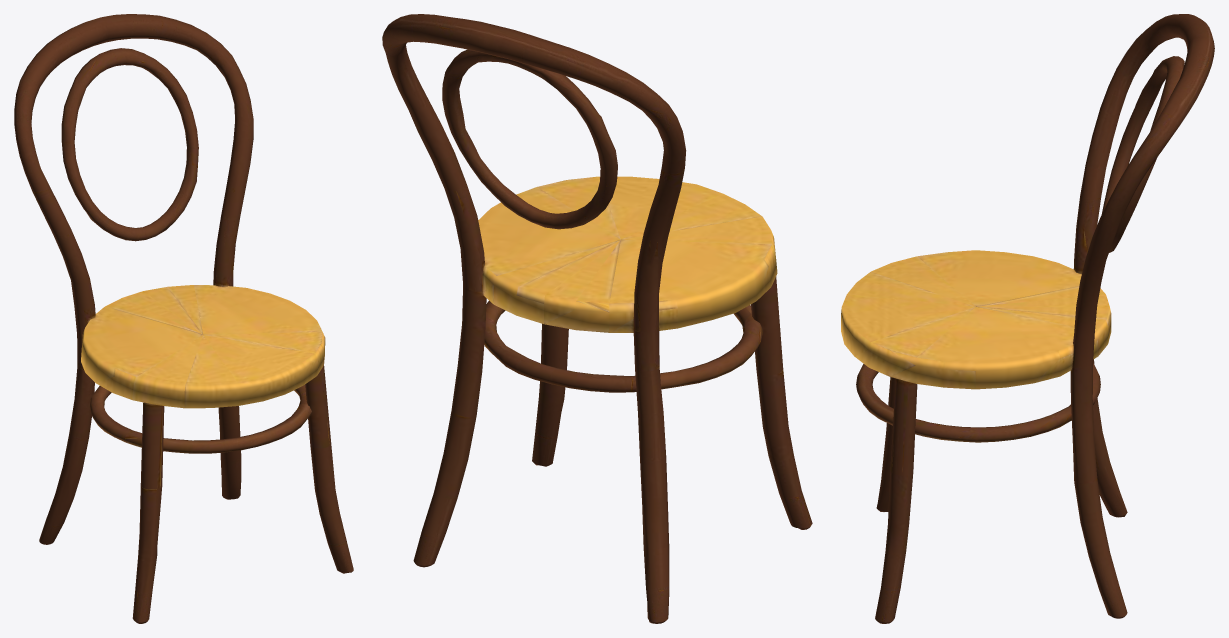
Rendered from bentwood-chair.glb.
3 views of the same model, side by side, from view 1: azimuth 30°, elevation 25°; view 2: azimuth 150°, elevation 25°; view 3: azimuth 270°, elevation 25° (orthographic). The views are drawn at different scales.
Size of the model in its own units: 0.48 by 0.9517 by 0.6084.
1 material, 1 textured.
